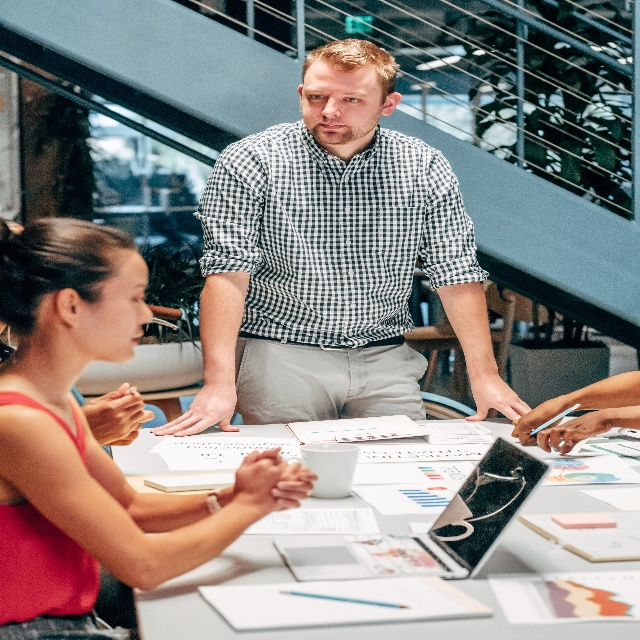Sin_guantes: (150, 383, 241, 438), (233, 447, 302, 514), (79, 378, 145, 446), (251, 446, 317, 512), (463, 370, 533, 428), (536, 409, 614, 454), (510, 393, 569, 446), (105, 395, 155, 447)
